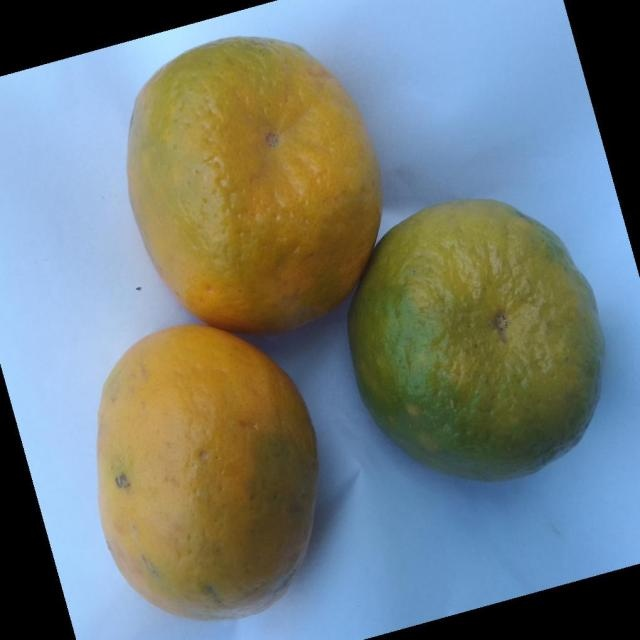agrume: (125, 34, 382, 334), (347, 197, 605, 483), (96, 323, 320, 621)
